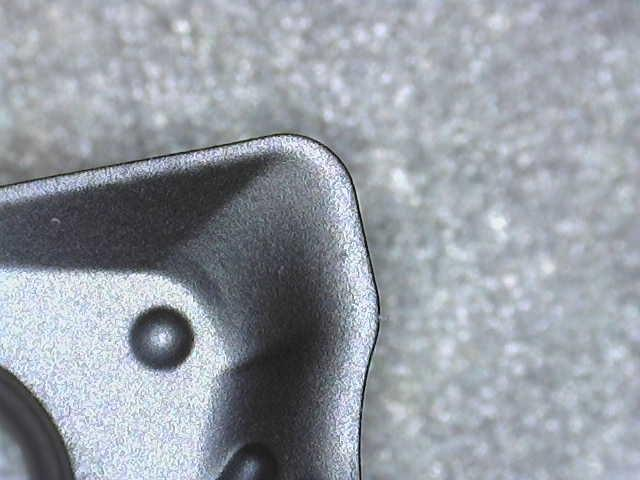normal: (0, 131, 384, 477)
